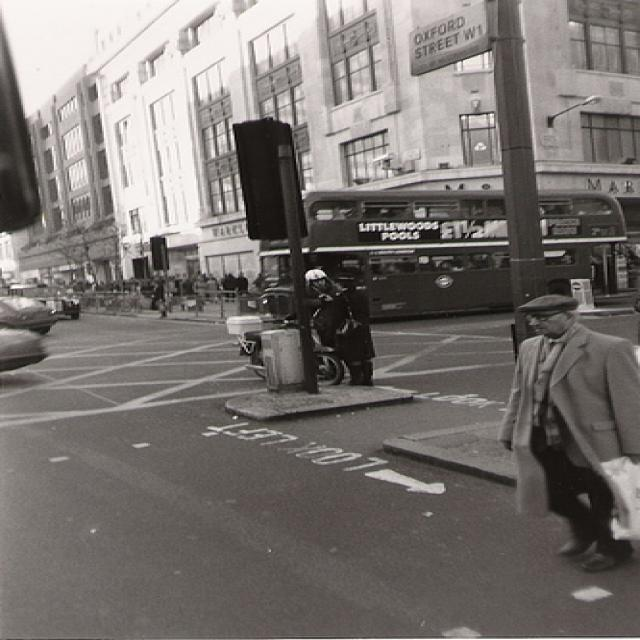motor: (231, 330, 344, 386)
